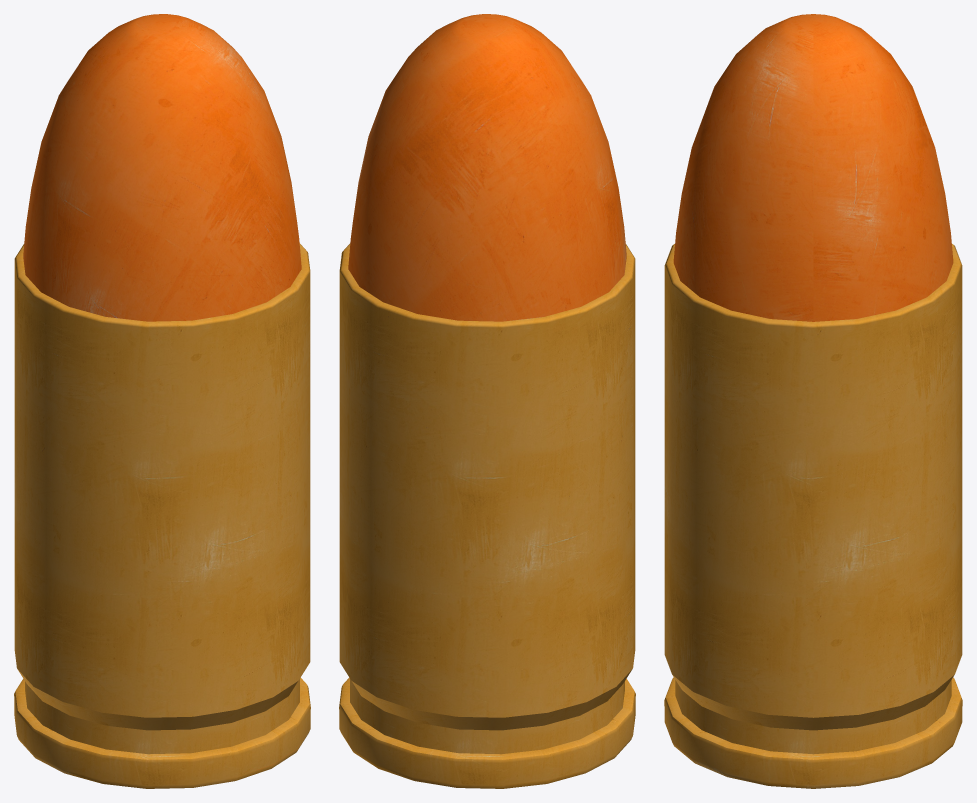
The model's file is Bullet.glb.
3 renders of one model, left to right at view 1: azimuth 30°, elevation 25°; view 2: azimuth 150°, elevation 25°; view 3: azimuth 270°, elevation 25°, orthographic.
Visible parts, largest first — view 1: pCube1; view 2: pCube1; view 3: pCube1.
Boxes of the visible parts, x1=… form: pCube1: x1=14, y1=14, x2=310, y2=788; pCube1: x1=339, y1=14, x2=635, y2=788; pCube1: x1=664, y1=14, x2=962, y2=788.
Bounding box in the file's own units: 0.8154 × 2.13 × 0.8154.
Materials: 1 (1 with a texture image).
